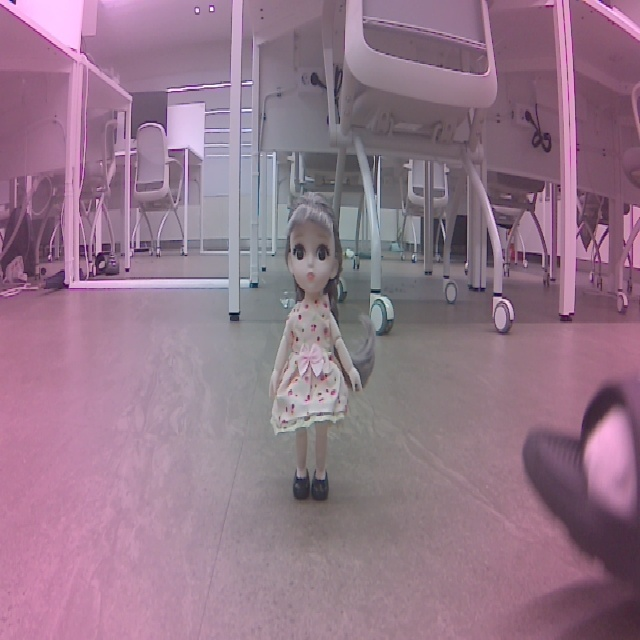장애물: (266, 181, 373, 510)
